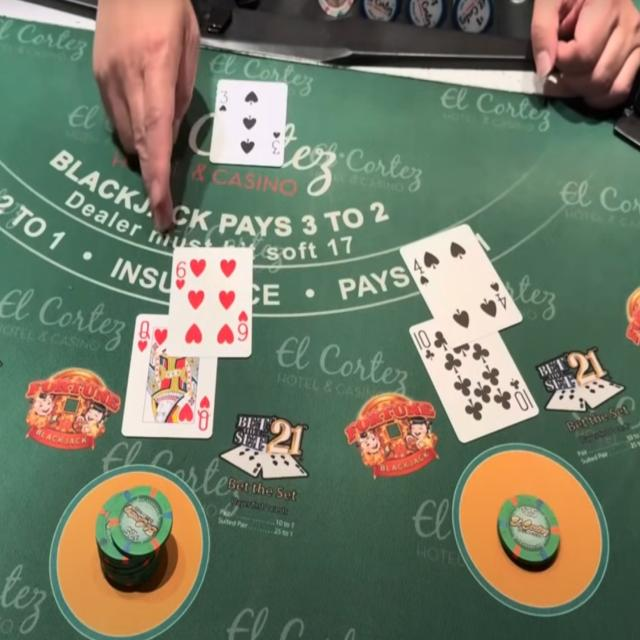10: (412, 328, 433, 350)
3: (218, 88, 230, 104)
4: (410, 256, 425, 274)
6: (175, 259, 188, 279)
Q: (138, 319, 152, 340)
